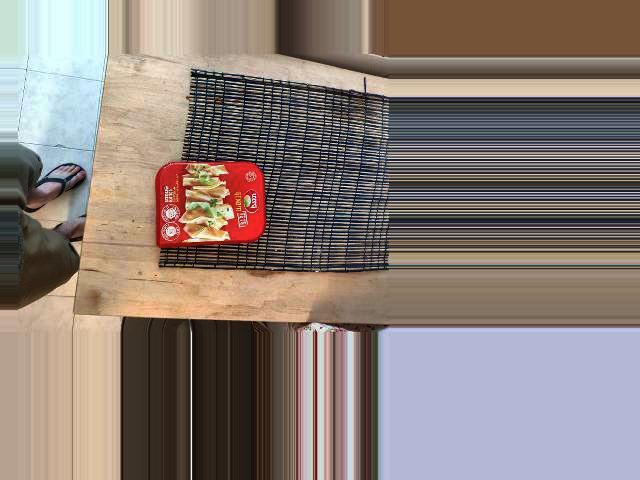cheese: (107, 156, 274, 261)
